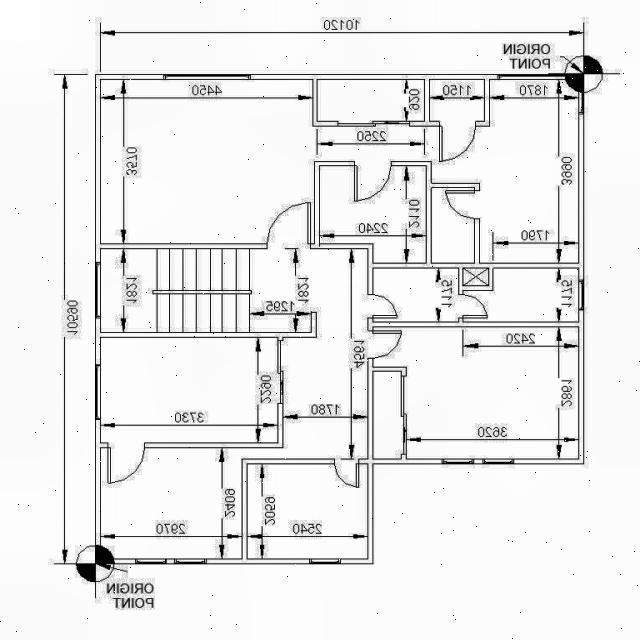Column: (95, 545, 101, 564), (578, 74, 584, 92), (101, 558, 115, 564), (565, 74, 578, 80)
Door: (266, 201, 314, 249), (100, 442, 145, 484), (354, 161, 392, 203), (439, 120, 476, 162), (444, 187, 480, 219), (368, 326, 403, 358), (367, 294, 399, 322), (334, 458, 359, 488), (458, 294, 488, 318)
Sliding Door: (338, 120, 410, 126), (401, 376, 406, 460), (278, 340, 284, 404)
Staircase: (100, 249, 310, 332)
Window: (163, 74, 251, 80), (497, 74, 565, 80), (95, 364, 101, 420), (95, 262, 101, 318), (174, 558, 207, 564), (482, 458, 514, 464), (442, 458, 474, 464), (309, 558, 341, 564), (135, 558, 167, 564), (578, 280, 584, 310), (578, 92, 584, 114)
